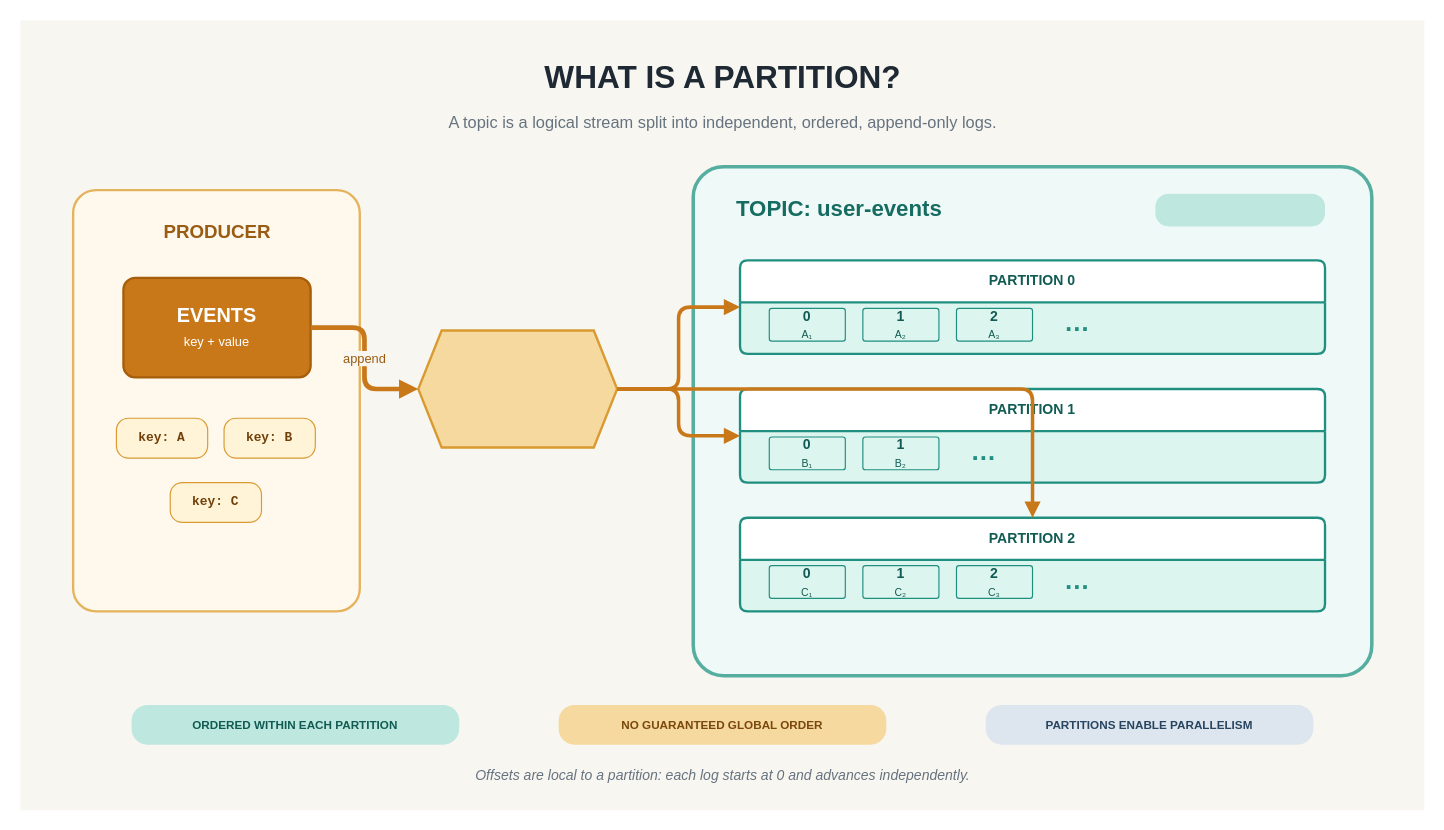
This 1444x830 diagram has some shape labels left out. Each missing label, with the centre of its shape:
"3 PARTITIONS" goes at point 1239,209.
"PARTITIONER chooses one partition" goes at point 517,388.
